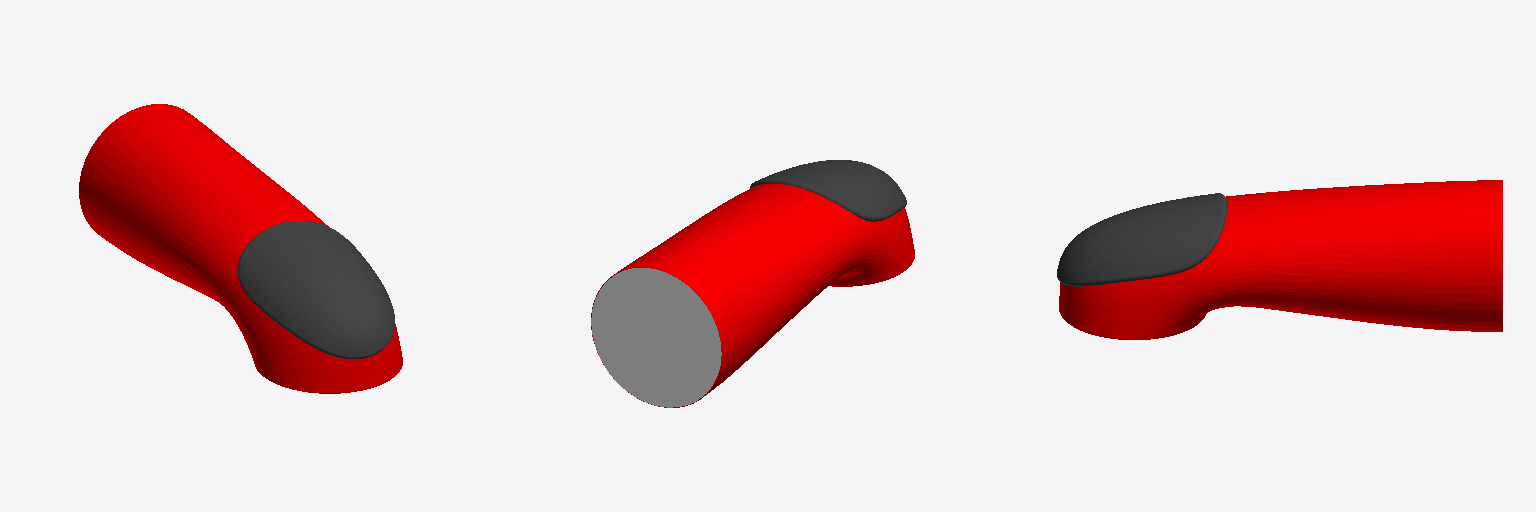
The picture shows the model from 3 angles: view 1: azimuth 30°, elevation 25°; view 2: azimuth 150°, elevation 25°; view 3: azimuth 270°, elevation 25°; orthographic projection.
Visible parts, largest first — view 1: _3DGeom_29_geo_0, _3DGeom_30_geo_1; view 2: _3DGeom_29_geo_0, _3DGeom_31_geo_2, _3DGeom_30_geo_1; view 3: _3DGeom_29_geo_0, _3DGeom_30_geo_1.
Boxes of the visible parts, x1=… form: _3DGeom_29_geo_0: x1=79, y1=104, x2=402, y2=393; _3DGeom_30_geo_1: x1=238, y1=221, x2=394, y2=358; _3DGeom_29_geo_0: x1=591, y1=184, x2=914, y2=407; _3DGeom_31_geo_2: x1=591, y1=268, x2=721, y2=407; _3DGeom_30_geo_1: x1=750, y1=160, x2=906, y2=221; _3DGeom_29_geo_0: x1=1059, y1=180, x2=1502, y2=339; _3DGeom_30_geo_1: x1=1057, y1=193, x2=1227, y2=286.
Size of the model in its own units: 0.1065 by 0.1065 by 0.3125.